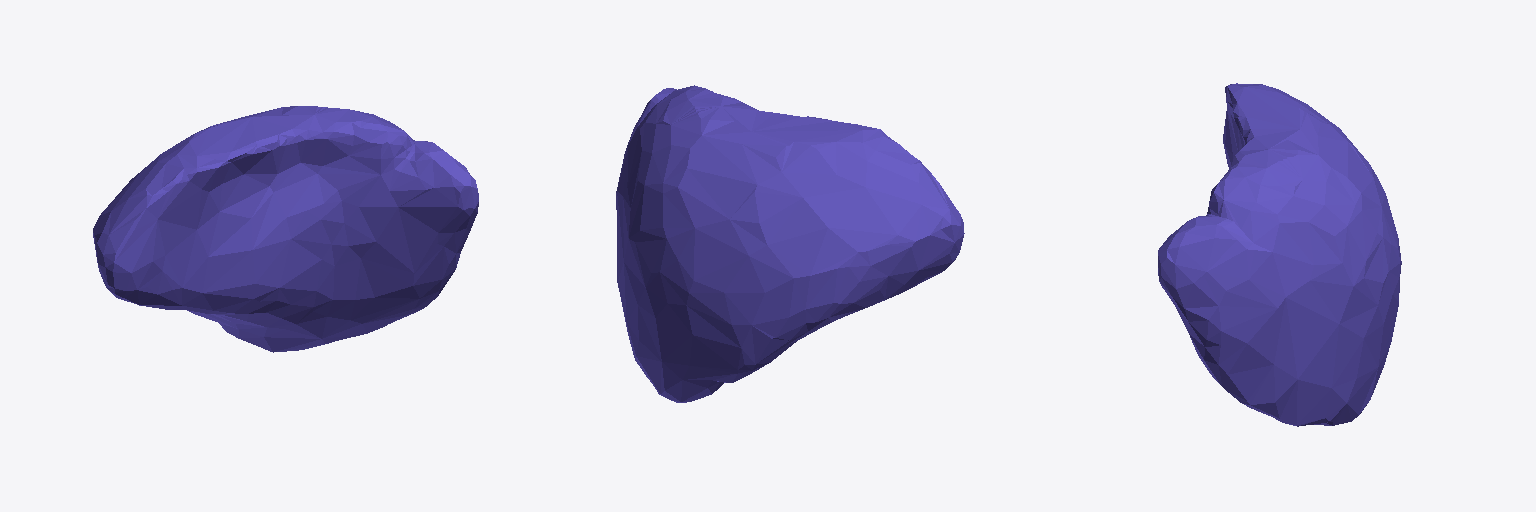
The picture shows the model from 3 angles: view 1: azimuth 30°, elevation 25°; view 2: azimuth 150°, elevation 25°; view 3: azimuth 270°, elevation 25°; orthographic projection.
Parts seen in each view (by area): view 1: Polygonal_Model_8_Triangles_0; view 2: Polygonal_Model_8_Triangles_0; view 3: Polygonal_Model_8_Triangles_0.
Part boxes in pixels (left/top/right/bottom): Polygonal_Model_8_Triangles_0: left=93, top=106, right=478, bottom=352; Polygonal_Model_8_Triangles_0: left=616, top=85, right=964, bottom=402; Polygonal_Model_8_Triangles_0: left=1158, top=83, right=1401, bottom=426.
Bounding box in the file's own units: 3.69 × 2.7 × 2.24.